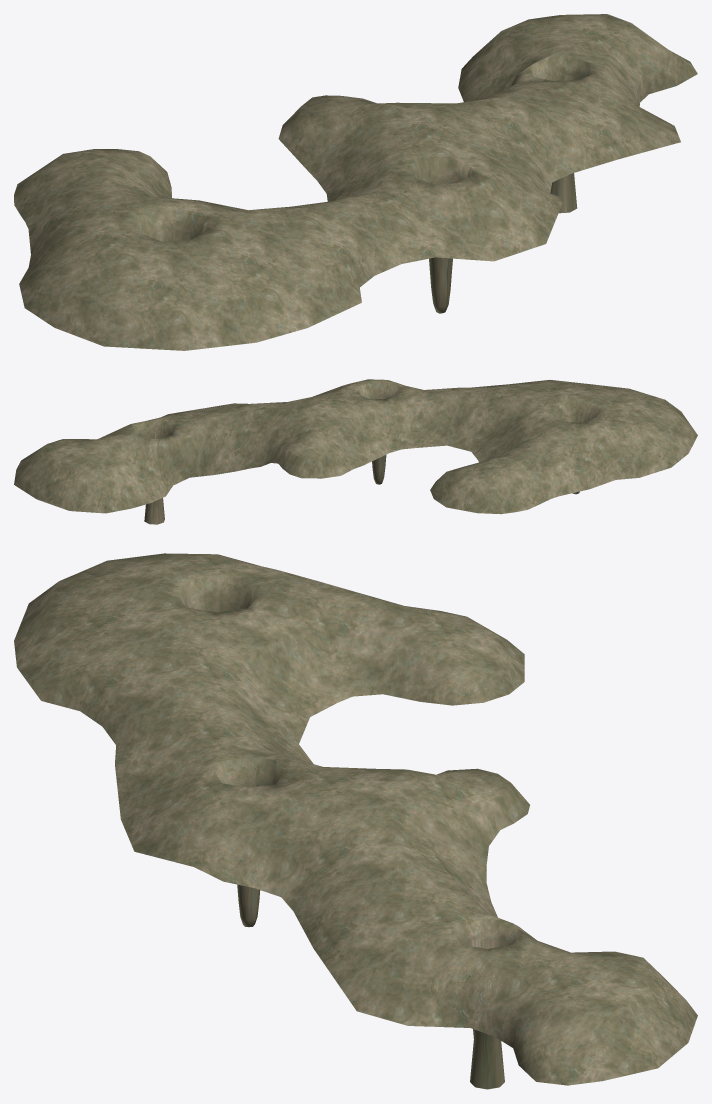
File: OVERHILL_A_01_TREASURE_CAVE_ROOF.fbx
The picture shows the model from 3 angles, top to bottom: view 1: azimuth 30°, elevation 25°; view 2: azimuth 150°, elevation 25°; view 3: azimuth 270°, elevation 25°; orthographic projection. The views are drawn at different scales.
Visible parts, largest first — view 1: OVERHILL_A_01_TREASURE_CAVE_ROOF; view 2: OVERHILL_A_01_TREASURE_CAVE_ROOF; view 3: OVERHILL_A_01_TREASURE_CAVE_ROOF.
Boxes of the visible parts, x1=… form: OVERHILL_A_01_TREASURE_CAVE_ROOF: x1=14, y1=14, x2=697, y2=350; OVERHILL_A_01_TREASURE_CAVE_ROOF: x1=14, y1=379, x2=697, y2=524; OVERHILL_A_01_TREASURE_CAVE_ROOF: x1=14, y1=553, x2=697, y2=1089.
Size of the model in its own units: 356940 by 82783 by 235800.
Materials: 1 (1 with a texture image).
